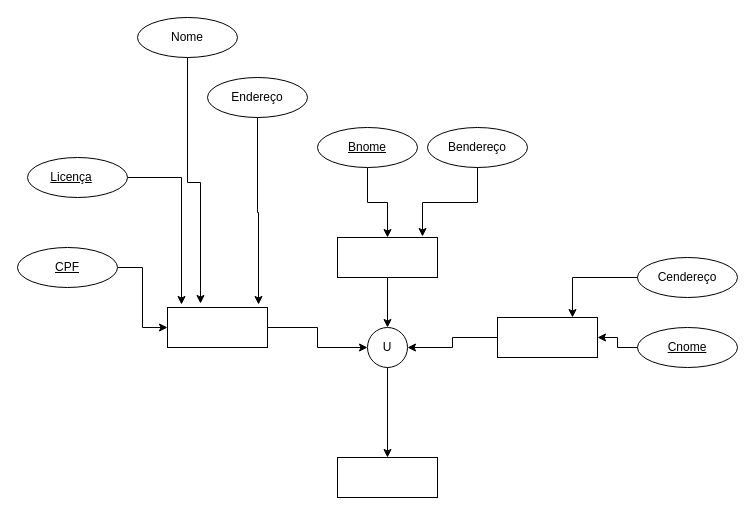
This 755x515 diagram has some shape labels left out. Each missing label, with the centre of its shape:
"Banco" goes at (387,257).
"Cia" goes at (547,337).
"Owner" goes at (387,477).
"Pessoa" goes at (217,327).
